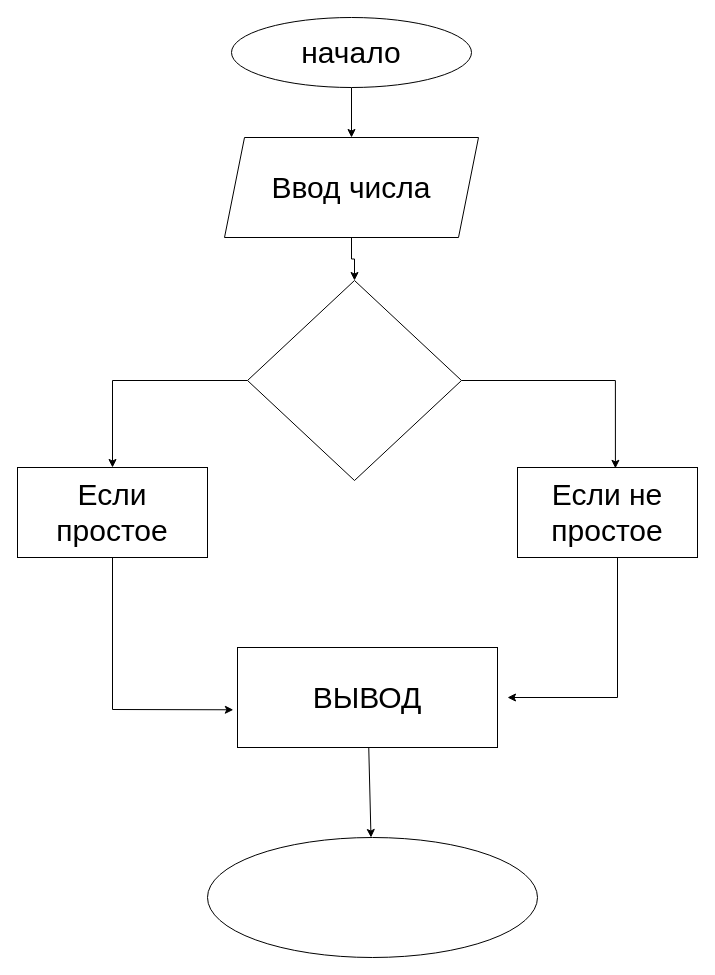
This 715x975 diagram has some shape labels left out. The box of each missing label's shape, as (x1, y1, x2, y2) in pixels:
КОНЕЦ: (206, 836, 538, 958)
Проверка: (246, 280, 462, 480)
